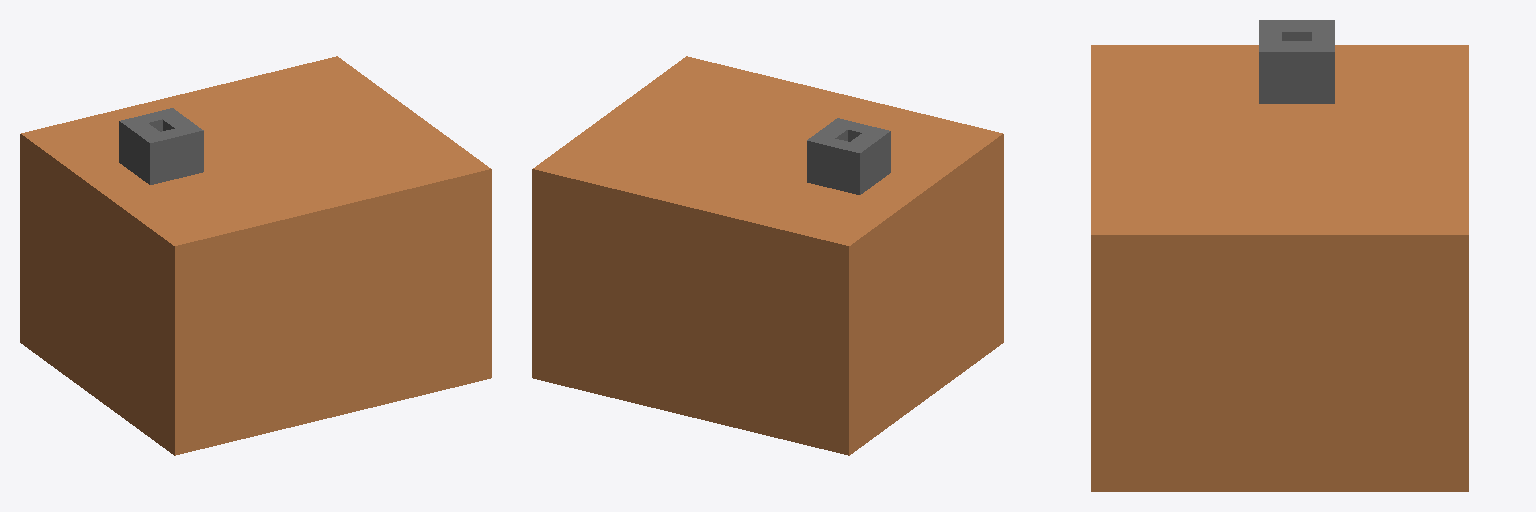
robot.urdf — peg_in_hole_tolerances_scenes_scene_0092_tol08:
<?xml version="1.0"?>
<robot name="peg_in_hole_tolerances_scenes_scene_0092_tol08">
  <material name="wood"><color rgba="0.82 0.56 0.35 1.0"/></material>
  <material name="hole_grey"><color rgba="0.4706 0.4706 0.4706 1.0"/></material>
  <link name="box">
    <visual>
      <origin xyz="0.000000 0.000000 0.000000" rpy="0 0 0"/>
      <geometry><box size="0.475000 0.400000 0.300000"/></geometry>
      <material name="wood"/>
    </visual>
    <collision>
      <origin xyz="0.000000 0.000000 0.000000" rpy="0 0 0"/>
      <geometry><box size="0.475000 0.400000 0.300000"/></geometry>
    </collision>
    <visual>
      <origin xyz="-0.131375 0.017821 0.155000" rpy="0 0 0"/>
      <geometry><box size="0.080000 0.080000 0.010000"/></geometry>
      <material name="hole_grey"/>
    </visual>
    <collision>
      <origin xyz="-0.131375 0.017821 0.155000" rpy="0 0 0"/>
      <geometry><box size="0.080000 0.080000 0.010000"/></geometry>
    </collision>
    <visual>
      <origin xyz="-0.105900 0.017821 0.185000" rpy="0 0 0"/>
      <geometry><box size="0.029049 0.080000 0.050000"/></geometry>
      <material name="hole_grey"/>
    </visual>
    <collision>
      <origin xyz="-0.105900 0.017821 0.185000" rpy="0 0 0"/>
      <geometry><box size="0.029049 0.080000 0.050000"/></geometry>
    </collision>
    <visual>
      <origin xyz="-0.156850 0.017821 0.185000" rpy="0 0 0"/>
      <geometry><box size="0.029049 0.080000 0.050000"/></geometry>
      <material name="hole_grey"/>
    </visual>
    <collision>
      <origin xyz="-0.156850 0.017821 0.185000" rpy="0 0 0"/>
      <geometry><box size="0.029049 0.080000 0.050000"/></geometry>
    </collision>
    <visual>
      <origin xyz="-0.131375 0.045797 0.185000" rpy="0 0 0"/>
      <geometry><box size="0.021902 0.024049 0.050000"/></geometry>
      <material name="hole_grey"/>
    </visual>
    <collision>
      <origin xyz="-0.131375 0.045797 0.185000" rpy="0 0 0"/>
      <geometry><box size="0.021902 0.024049 0.050000"/></geometry>
    </collision>
    <visual>
      <origin xyz="-0.131375 -0.010154 0.185000" rpy="0 0 0"/>
      <geometry><box size="0.021902 0.024049 0.050000"/></geometry>
      <material name="hole_grey"/>
    </visual>
    <collision>
      <origin xyz="-0.131375 -0.010154 0.185000" rpy="0 0 0"/>
      <geometry><box size="0.021902 0.024049 0.050000"/></geometry>
    </collision>
    <inertial>
      <mass value="500"/>
      <friction value="1.0"/>
      <inertia ixx="1000.0" ixy="0.0" ixz="0.0" iyy="1000.0" iyz="0.0" izz="1000.0"/>
    </inertial>
  </link>
</robot>

--- What the picture shows (computed from the rendered views, not written in the file) ---
The picture shows the robot from 3 angles, left to right: view 1: azimuth 30°, elevation 25°; view 2: azimuth 150°, elevation 25°; view 3: azimuth 270°, elevation 25°; orthographic projection.
Robot: peg_in_hole_tolerances_scenes_scene_0092_tol08 — 1 links, 0 joints (none); root link box; default pose: every joint at zero.
Visible links, largest first — view 1: box; view 2: box; view 3: box.
Link boxes in pixels (x1,y1,x2,y2): box: (20,56,491,455); box: (532,56,1003,455); box: (1091,20,1468,491).
Size in the robot's own frame: 0.475 by 0.4 by 0.36 metres.
Geometry: primitives only (box / cylinder / sphere), no mesh files.
